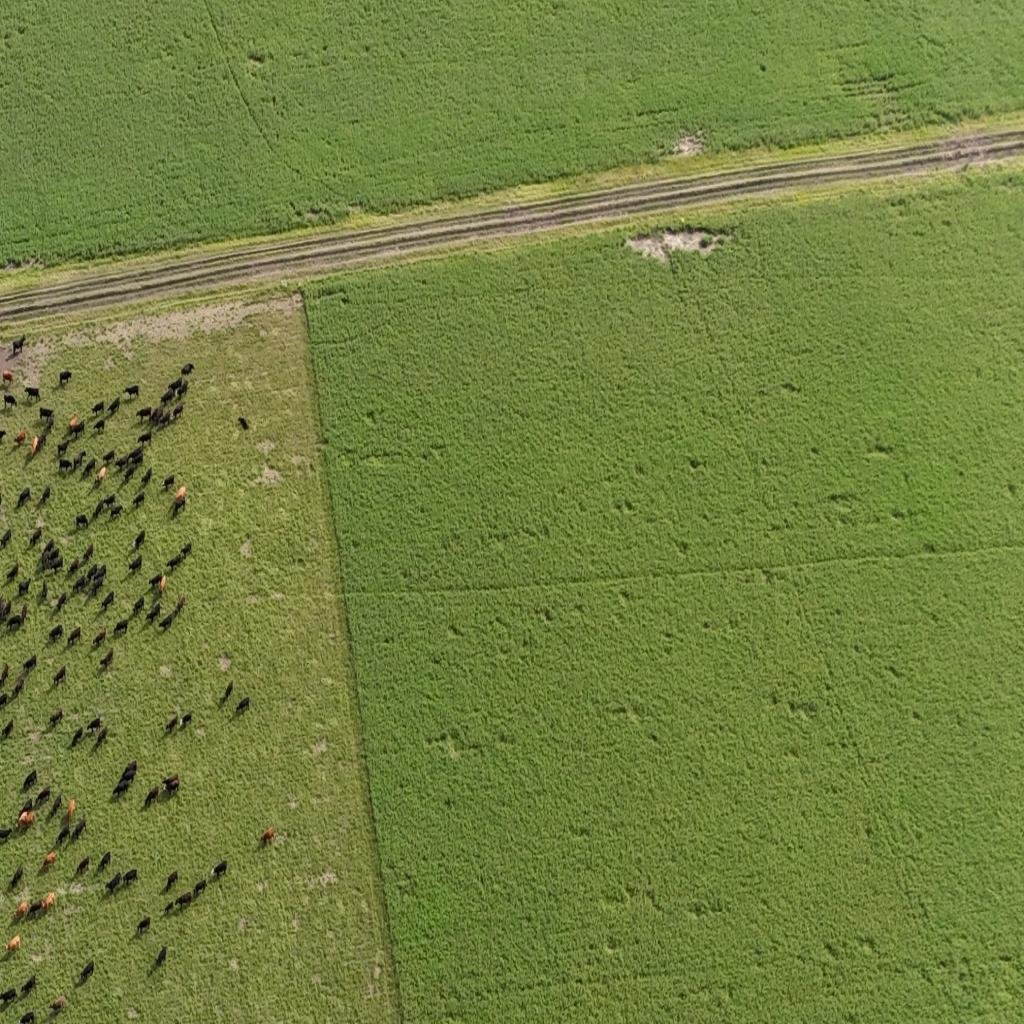cow: (208, 856, 234, 882), (236, 690, 255, 724), (46, 545, 62, 573), (92, 725, 109, 751), (104, 872, 122, 896), (71, 574, 89, 598), (91, 499, 108, 524), (152, 944, 167, 972), (46, 796, 62, 822), (145, 602, 162, 626), (72, 817, 87, 844), (174, 891, 192, 913), (34, 786, 52, 808), (114, 450, 132, 472), (86, 579, 104, 601), (21, 974, 37, 998), (22, 768, 38, 792), (98, 648, 114, 672), (80, 959, 94, 986), (4, 931, 21, 953), (10, 864, 24, 890), (28, 434, 42, 460), (144, 786, 159, 810), (166, 552, 184, 572), (112, 780, 130, 800), (28, 898, 46, 918), (0, 985, 17, 1006), (99, 494, 116, 515), (150, 407, 167, 428), (56, 824, 71, 847), (82, 458, 97, 481), (53, 592, 68, 615), (4, 614, 23, 632), (66, 798, 76, 832), (122, 868, 138, 889), (11, 677, 25, 701), (11, 334, 26, 356), (5, 562, 20, 584), (91, 467, 106, 489), (192, 878, 206, 901), (172, 497, 186, 520), (70, 727, 84, 750), (158, 612, 174, 632), (114, 618, 130, 638), (48, 624, 64, 644), (13, 900, 29, 920), (164, 376, 184, 392), (125, 755, 145, 771), (100, 591, 115, 612), (132, 530, 145, 554), (16, 487, 30, 509), (132, 594, 146, 616), (23, 654, 37, 676), (42, 891, 56, 913), (80, 543, 94, 565), (84, 560, 98, 582), (148, 572, 164, 591), (127, 555, 142, 575), (75, 857, 90, 877), (260, 827, 275, 847), (58, 456, 73, 476), (42, 850, 57, 870), (14, 810, 29, 830), (98, 851, 111, 874), (68, 627, 82, 648), (72, 419, 86, 440), (42, 539, 56, 560), (86, 716, 102, 734), (222, 680, 234, 704), (39, 406, 55, 424), (108, 504, 124, 522), (53, 666, 66, 688), (38, 486, 51, 508), (0, 597, 11, 623), (16, 798, 35, 813), (136, 916, 150, 936), (50, 707, 64, 727), (92, 629, 106, 649), (29, 528, 43, 548), (17, 578, 31, 598), (67, 557, 81, 577), (2, 718, 14, 741), (72, 452, 85, 473), (51, 994, 66, 1012), (137, 430, 152, 448), (175, 381, 189, 400), (0, 529, 12, 551), (165, 716, 178, 736), (165, 871, 178, 891), (107, 398, 120, 418), (0, 826, 13, 846), (36, 434, 49, 454), (162, 769, 182, 782), (164, 781, 180, 797), (123, 385, 139, 401), (136, 406, 151, 423), (179, 711, 193, 729), (3, 393, 17, 411), (102, 449, 116, 467), (132, 490, 146, 508), (161, 389, 175, 407), (68, 412, 79, 434), (25, 386, 40, 402), (121, 769, 137, 784), (140, 468, 152, 488), (57, 440, 69, 460), (94, 566, 109, 582), (75, 513, 89, 530), (0, 662, 9, 688), (124, 464, 137, 482), (175, 594, 185, 617), (172, 404, 184, 423), (91, 400, 105, 416), (19, 1010, 35, 1024), (127, 448, 143, 462), (59, 370, 72, 387), (14, 429, 27, 446), (162, 474, 175, 490), (180, 542, 192, 559), (175, 486, 186, 504), (163, 900, 175, 916), (94, 417, 106, 433), (40, 580, 48, 604), (181, 363, 194, 377), (2, 371, 14, 386), (0, 692, 9, 711), (132, 453, 145, 465), (237, 416, 248, 430), (0, 426, 6, 448), (22, 606, 28, 626), (27, 810, 36, 822)
